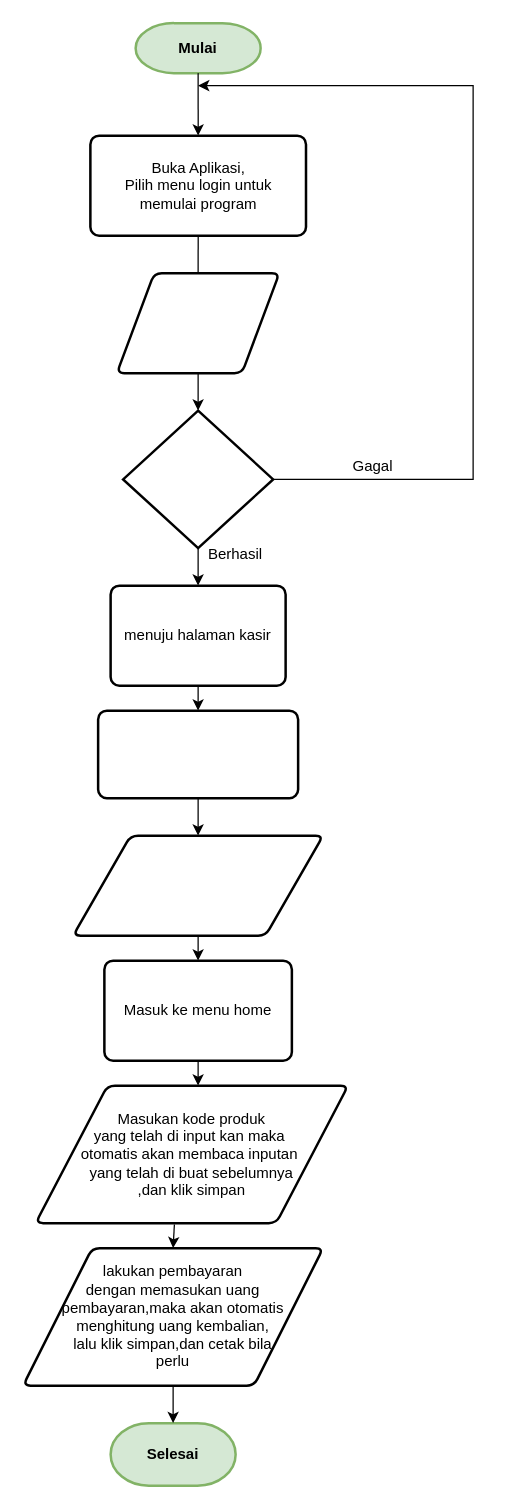
The diagram is 505 pixels wide and 1508 high, and some of its shapes have lost their labels. The shapes that lost their labels are listed below. From the top down, each one's centre as x and y in pixels, then its label:
the point at 197,322: Input Username dan Password
the point at 197,479: Melakukan login
the point at 197,754: masuk kedalam menu produk untuk menambahkan produk baru,klik tambah produk
the point at 197,885: Input kan, Kode proudk, nama produk,harga modal dan harga jual
